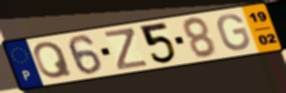5: (137, 20, 179, 65)
6: (66, 34, 104, 76)
8: (182, 16, 219, 60)
G: (216, 12, 253, 52)
Q: (32, 40, 75, 80)
Z: (102, 27, 150, 72)
